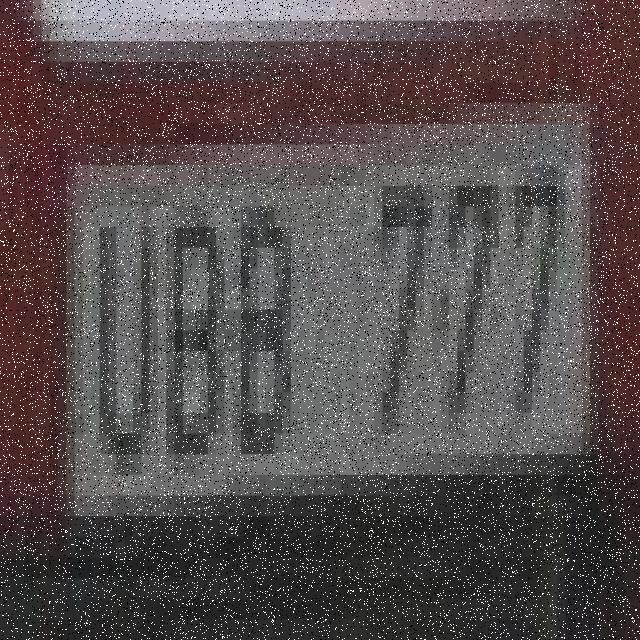licenseplate: (31, 49, 611, 541)
